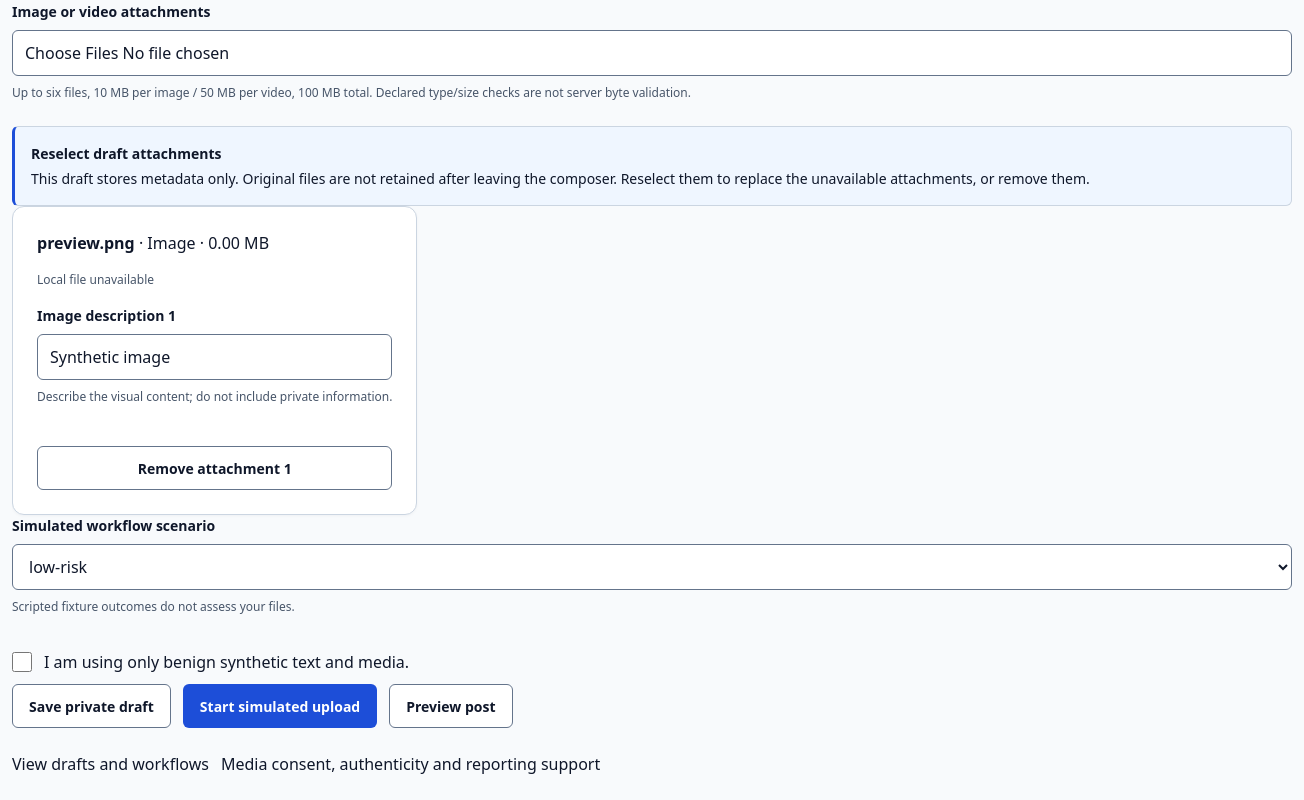
Composer and safety interfaces › requires restored draft files to be reselected before starting
(page scrolled)
Click the button "Start simulated upload" at (280, 706), box [183,684,377,728]
(page scrolled)
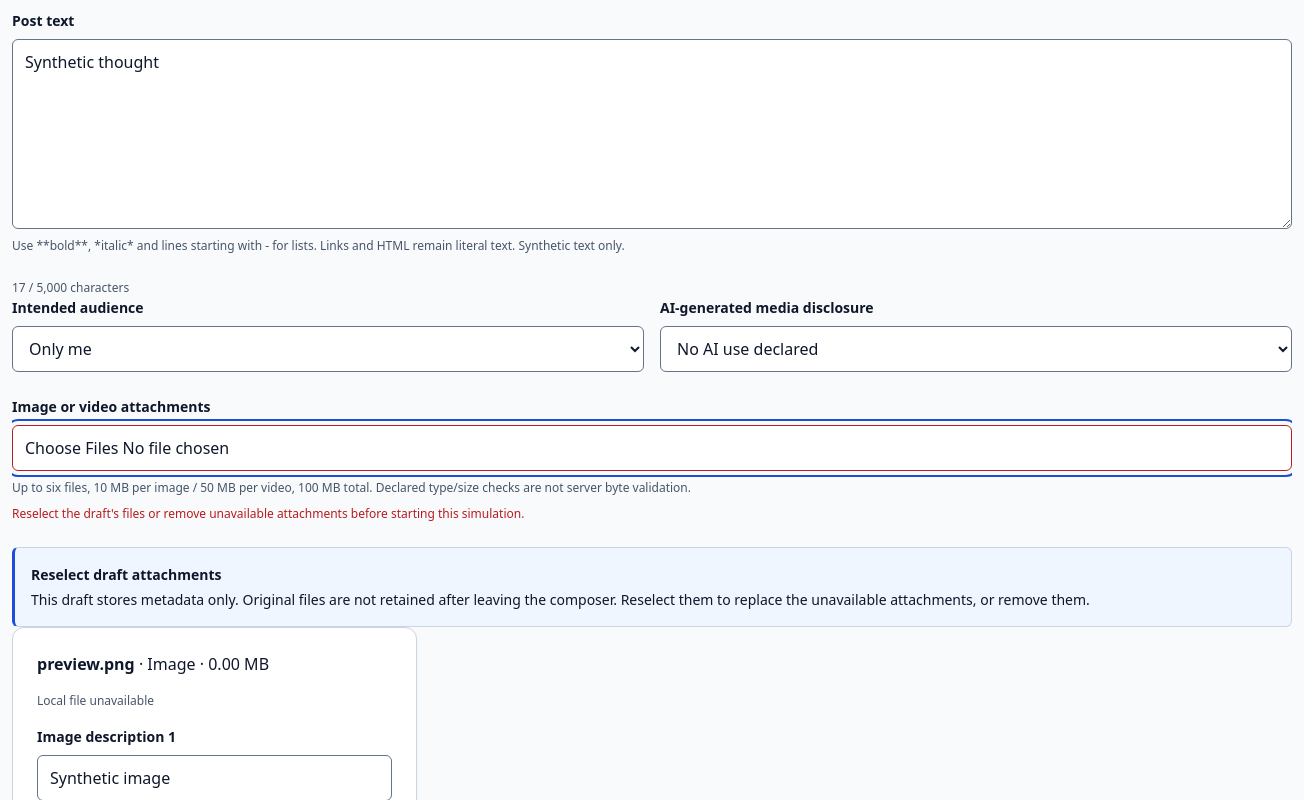
Result: the text "Reselect the draft's files or remove unavailable attachments" is shown at [12,505,524,522]
